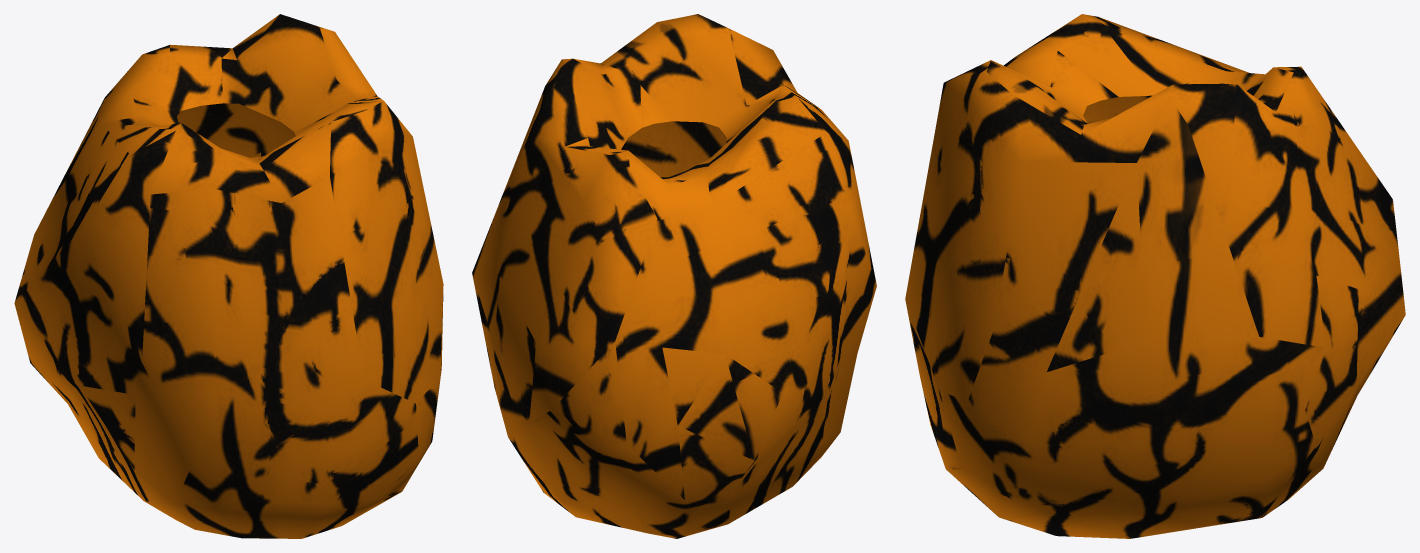
Rendered from pies1I.fbx.
3 views of the same model, side by side, from view 1: azimuth 30°, elevation 25°; view 2: azimuth 150°, elevation 25°; view 3: azimuth 270°, elevation 25° (orthographic). The views are drawn at different scales.
Parts seen in each view (by area): view 1: Pies1I; view 2: Pies1I; view 3: Pies1I.
Boxes of the visible parts, x1=… form: Pies1I: x1=14, y1=14, x2=443, y2=538; Pies1I: x1=472, y1=14, x2=876, y2=538; Pies1I: x1=905, y1=14, x2=1405, y2=538.
Size of the model in its own units: 24.46 by 29.06 by 28.74.
